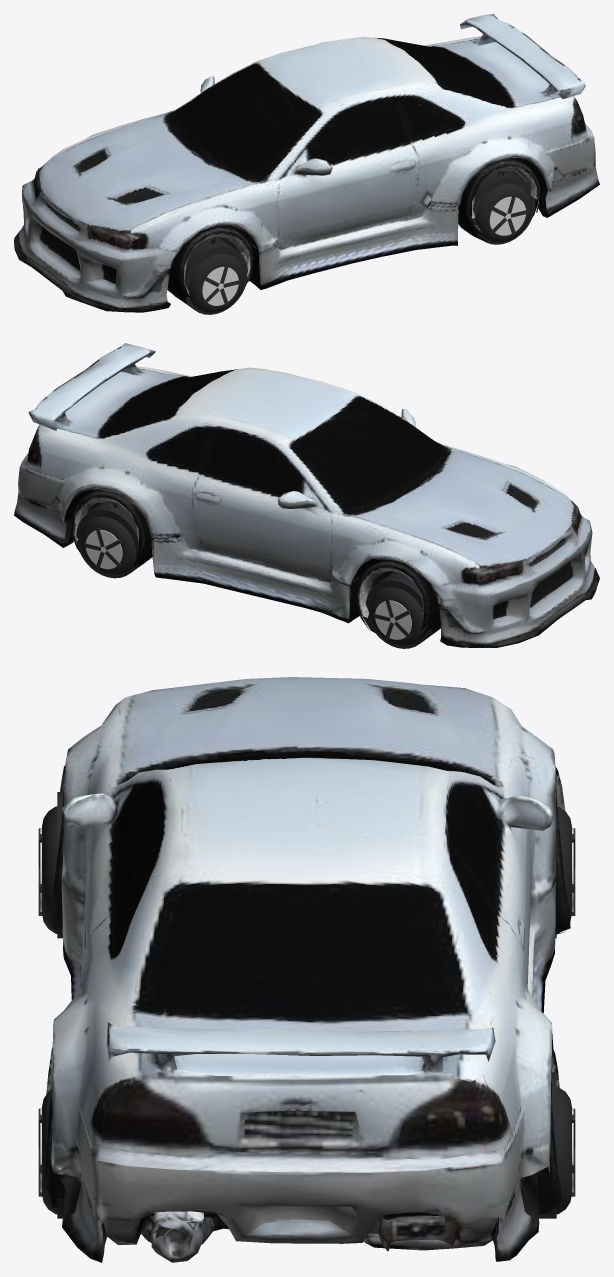
File: drift.glb
3 renders of one model, top to bottom at view 1: azimuth 30°, elevation 25°; view 2: azimuth 150°, elevation 25°; view 3: azimuth 270°, elevation 25°, orthographic. The views are drawn at different scales.
Parts seen in each view (by area): view 1: Body, Wheel_RR, Wheel_FR, Liner_RR, Liner_FR; view 2: Body, Wheel_FL, Wheel_RL, Liner_FL, Liner_RL; view 3: Body, Wheel_FL, Wheel_RR, Wheel_RL, Wheel_FR.
Boxes of the visible parts, box(x1,y1,x2,y2) form: Body: box(14, 14, 599, 312); Wheel_RR: box(188, 253, 244, 313); Wheel_FR: box(476, 183, 531, 243); Liner_RR: box(167, 237, 247, 314); Liner_FR: box(472, 170, 535, 244); Body: box(14, 343, 599, 647); Wheel_FL: box(80, 516, 135, 576); Wheel_RL: box(369, 587, 424, 647); Liner_FL: box(76, 501, 152, 578); Liner_RL: box(366, 571, 441, 648); Body: box(42, 677, 570, 1262); Wheel_FL: box(556, 1087, 575, 1214); Wheel_RR: box(38, 806, 57, 933); Wheel_RL: box(557, 806, 575, 933); Wheel_FR: box(38, 1089, 57, 1214).
Size of the model in its own units: 2.12 by 0.6197 by 0.9657.
Materials: 5 (1 with a texture image).
